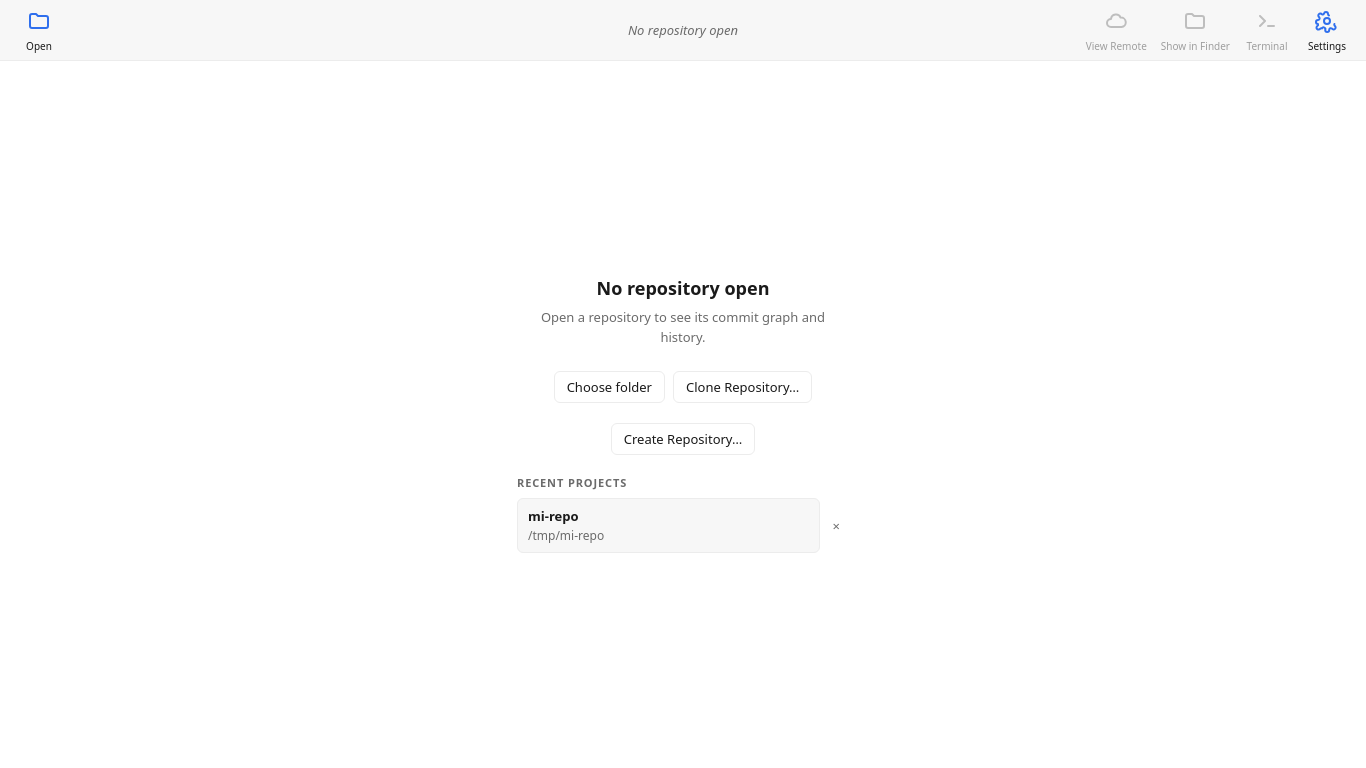
Scenario: App › offers Clone and Create from the home screen
Click the button "Clone Repository…" at (743, 387), box 673,371 -> 812,403
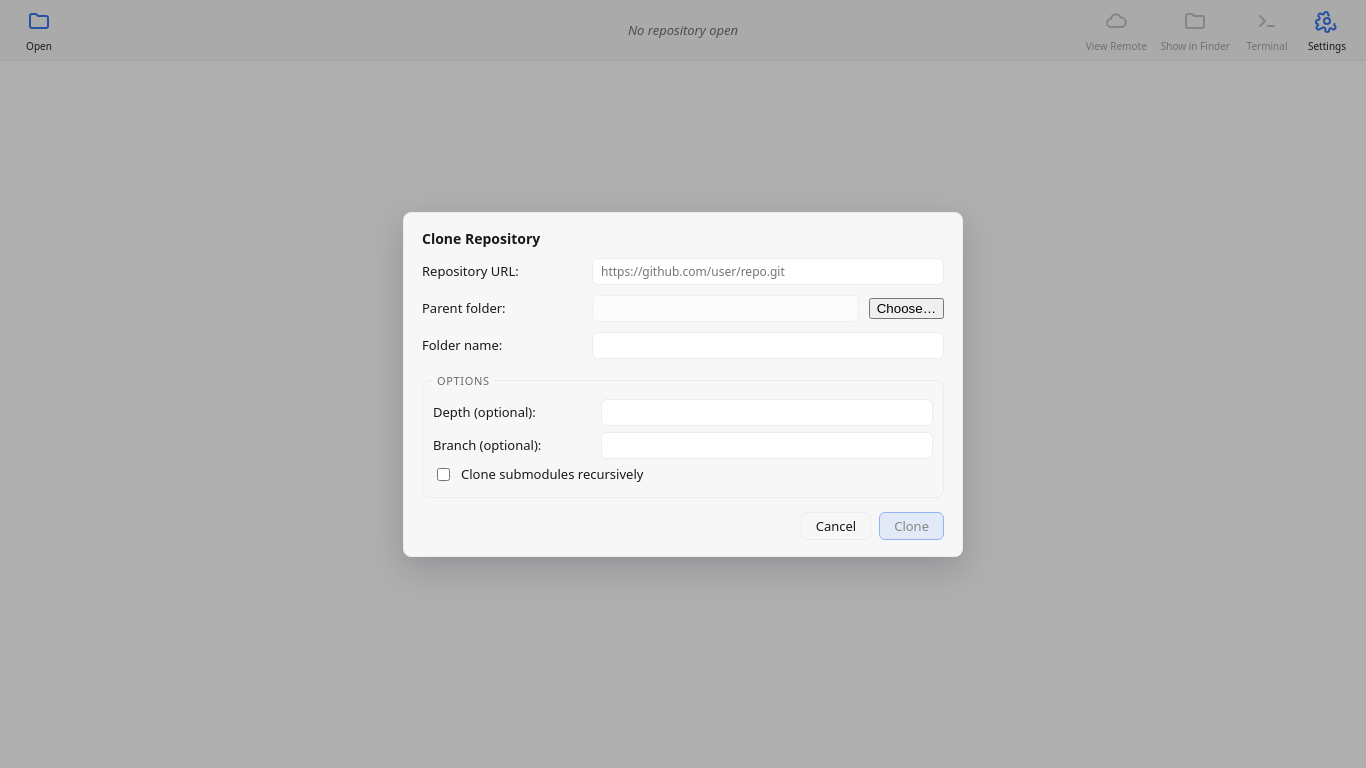
Result: the dialog "Clone Repository" is shown at 403,212 -> 963,556
Click the button "Cancel" at (836, 526), box 801,512 -> 871,540
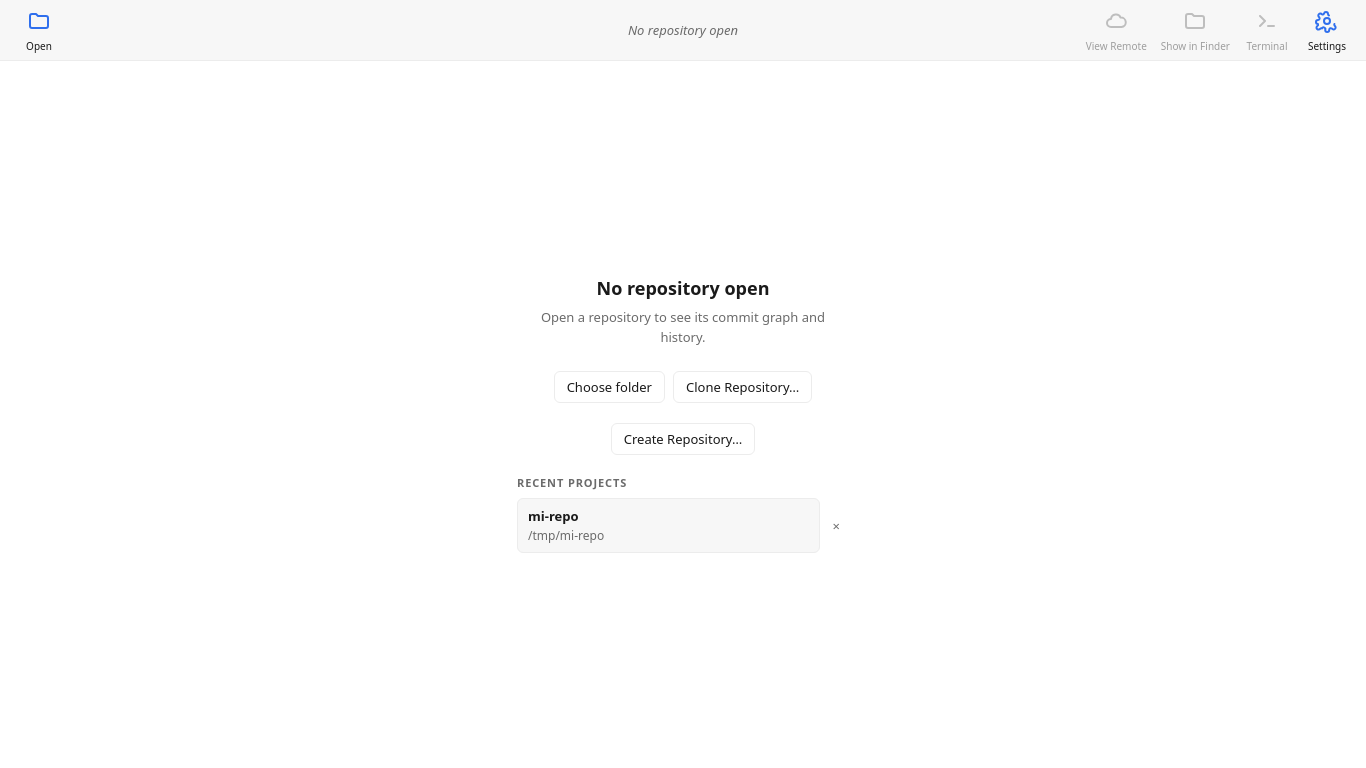
Click the button "Create Repository…" at (683, 439), box 611,423 -> 755,455
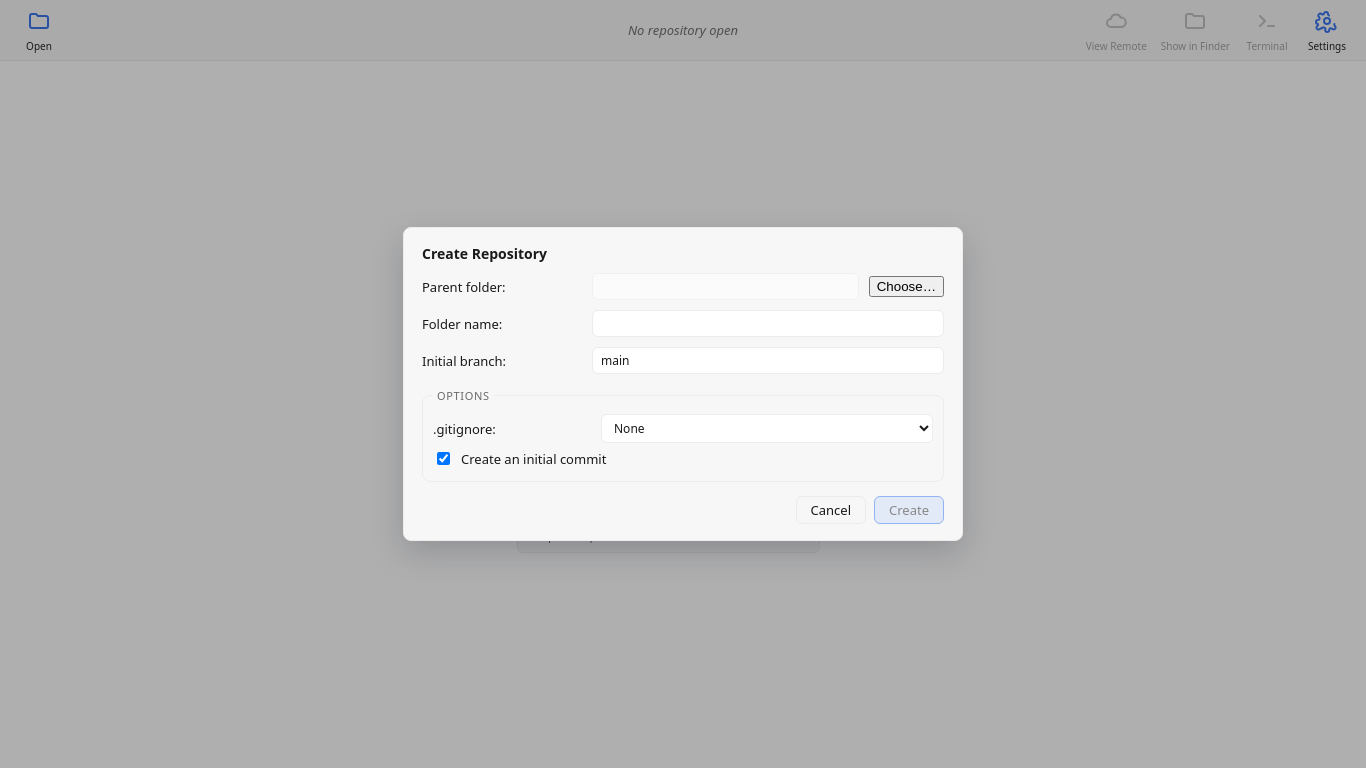
Result: the dialog "Create Repository" is shown at 403,227 -> 963,541
